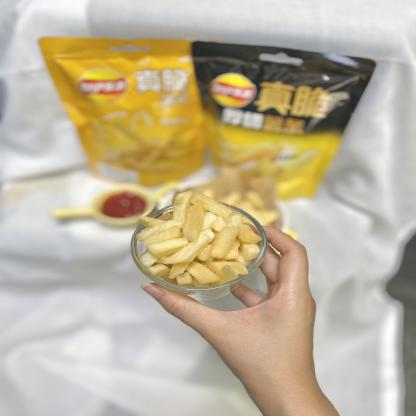potatochip: (184, 35, 382, 208), (28, 32, 235, 190)
